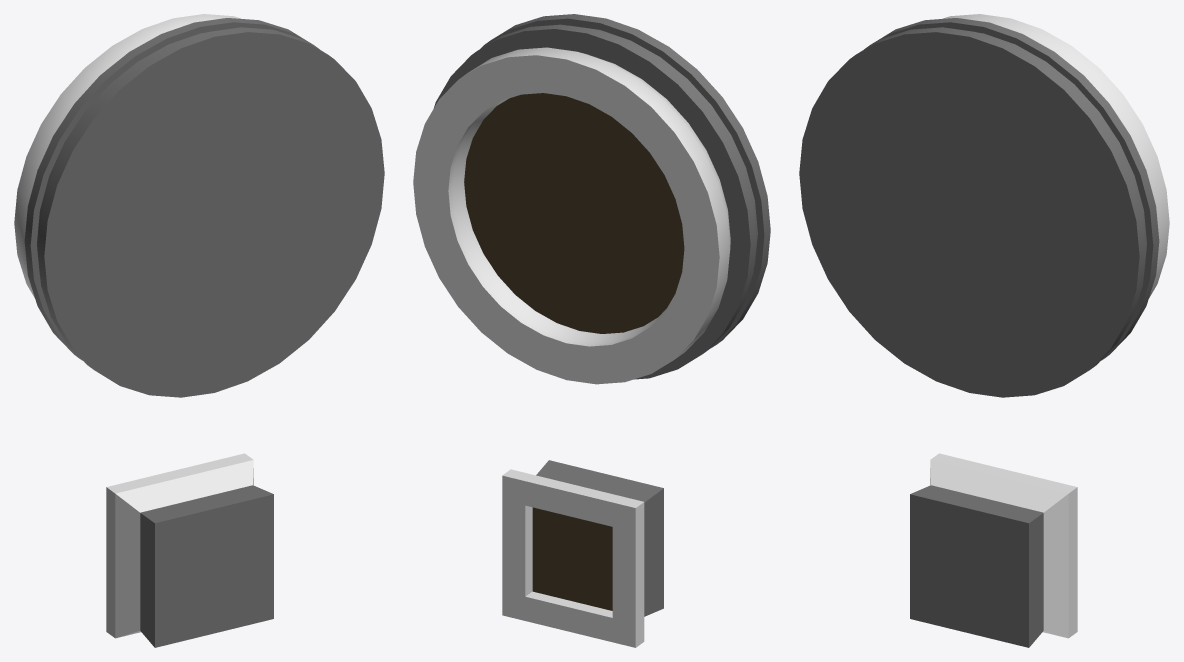
The model's file is Planters.fbx.
3 views of the same model, side by side, from view 1: azimuth 30°, elevation 25°; view 2: azimuth 150°, elevation 25°; view 3: azimuth 330°, elevation 25° (orthographic). The views are drawn at different scales.
Visible parts, largest first — view 1: Planter 2, Planter 1; view 2: Planter 2, Planter 1; view 3: Planter 2, Planter 1.
Boxes of the visible parts, x1,y1,x2,y2 form: Planter 2: (14, 14, 384, 397); Planter 1: (106, 453, 273, 647); Planter 2: (413, 14, 770, 384); Planter 1: (502, 460, 663, 647); Planter 2: (799, 14, 1169, 397); Planter 1: (910, 453, 1077, 647).
Bounding box in the file's own units: 400 × 681 × 84.51.
